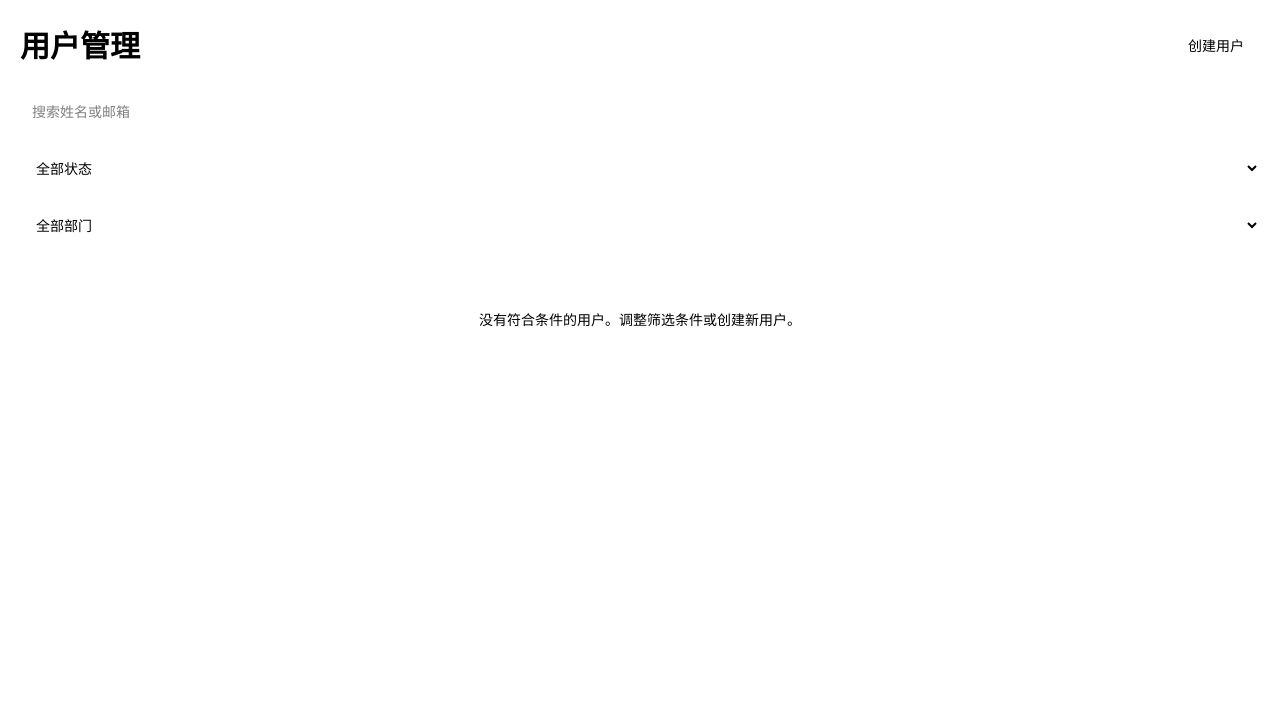
Test: 仅账号管理权限创建用户不受部门候选加载失败阻塞
Click the button "创建用户" at (1216, 46), box [1172,28,1260,64]
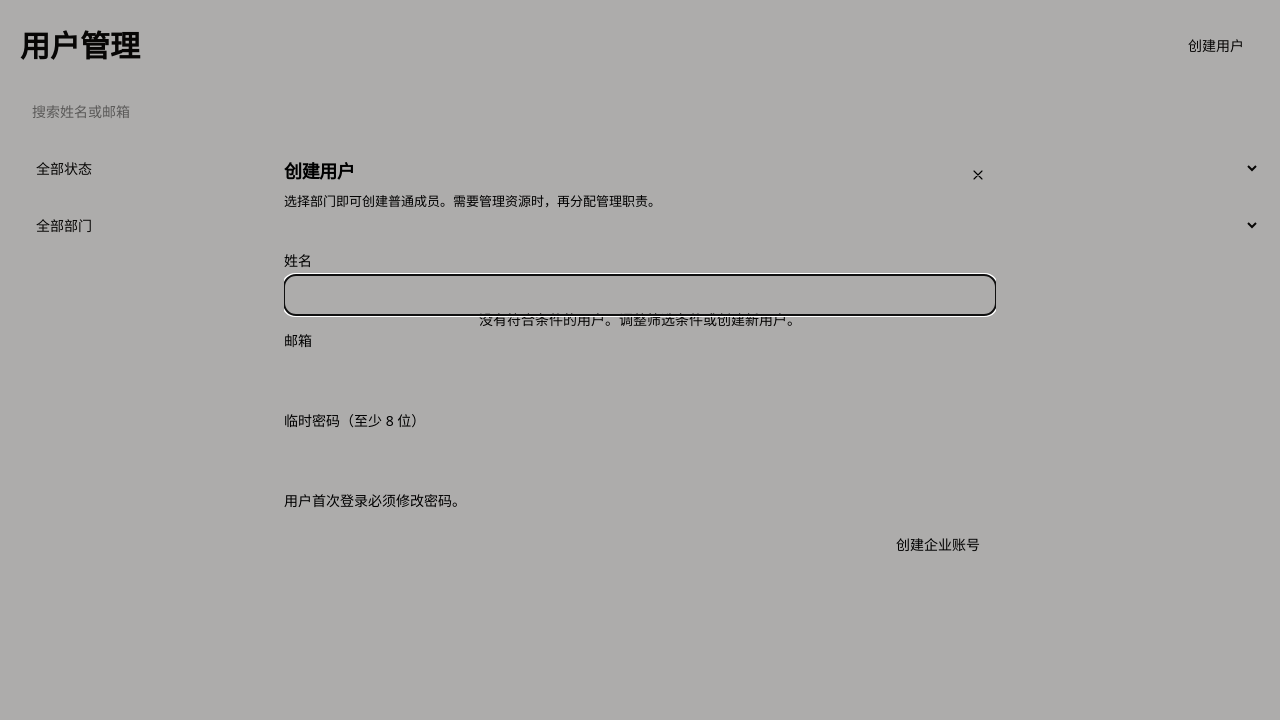
Expected: the button "创建企业账号" is enabled, [880,527,996,563]
